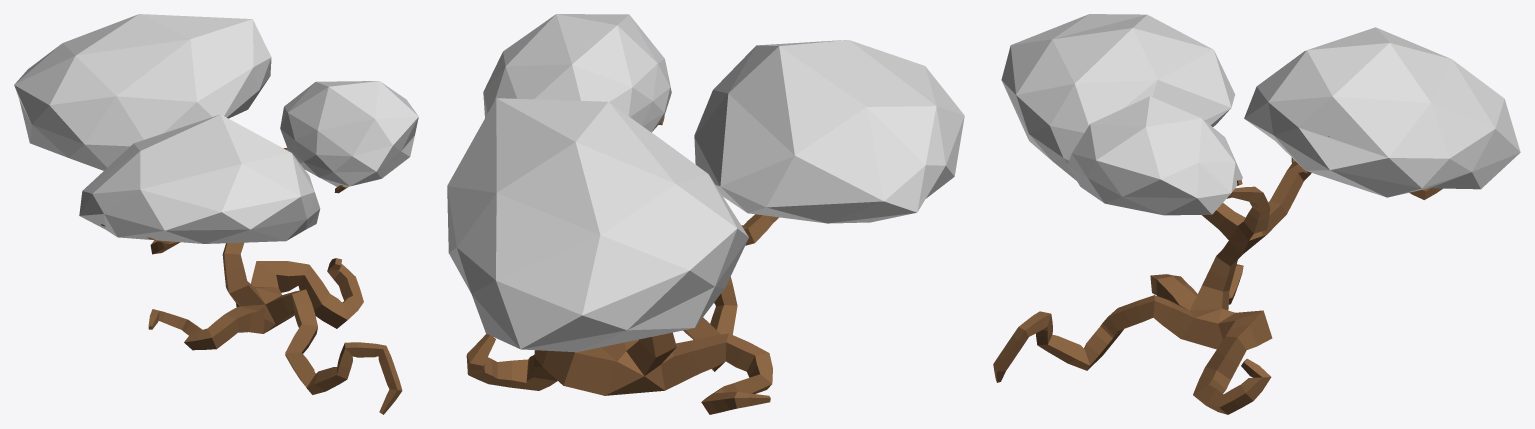
Rendered from small forrest tree.fbx.
The picture shows the model from 3 angles, left to right: view 1: azimuth 30°, elevation 25°; view 2: azimuth 150°, elevation 25°; view 3: azimuth 270°, elevation 25°; orthographic projection. The views are drawn at different scales.
Parts seen in each view (by area): view 1: Icosphere.006, Cube; view 2: Icosphere.006, Cube; view 3: Icosphere.006, Cube.
Part boxes in pixels (<box>): Icosphere.006: <box>14,14,418,243</box>; Cube: <box>101,148,402,414</box>; Icosphere.006: <box>447,14,964,352</box>; Cube: <box>466,116,779,414</box>; Icosphere.006: <box>1001,14,1520,215</box>; Cube: <box>993,136,1442,414</box>.
Size of the model in its own units: 5144 by 4374 by 6737.
